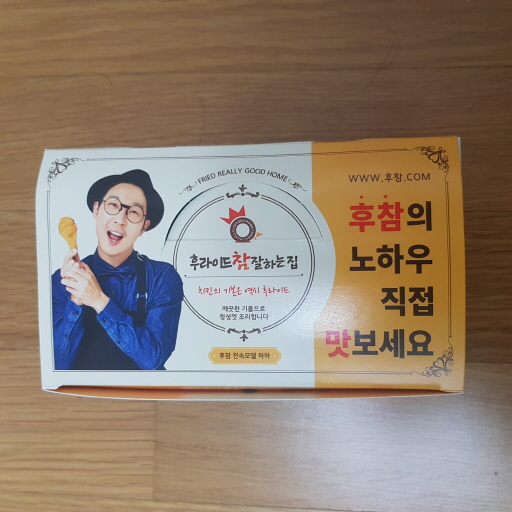Paper_0: (29, 127, 482, 428)
